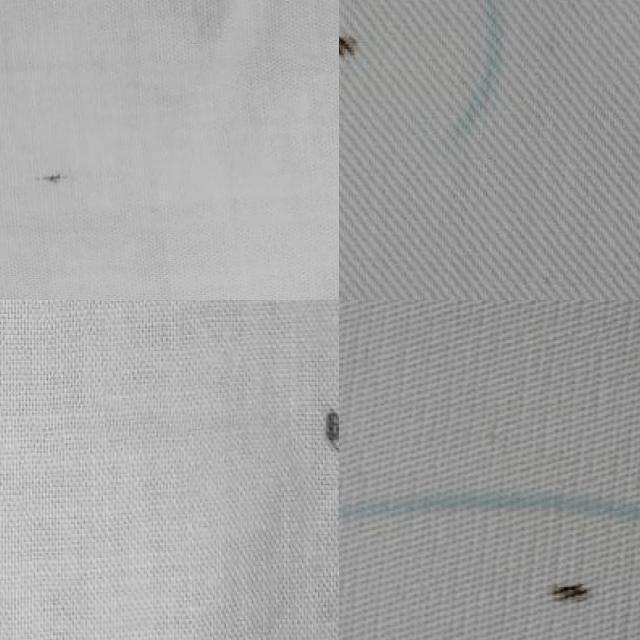Thread_other: (263, 328, 339, 529), (501, 541, 640, 640), (0, 154, 94, 300), (339, 0, 449, 116)
